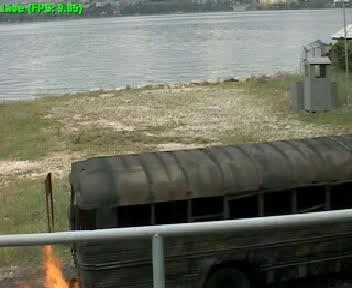fire: (31, 249, 71, 288)
